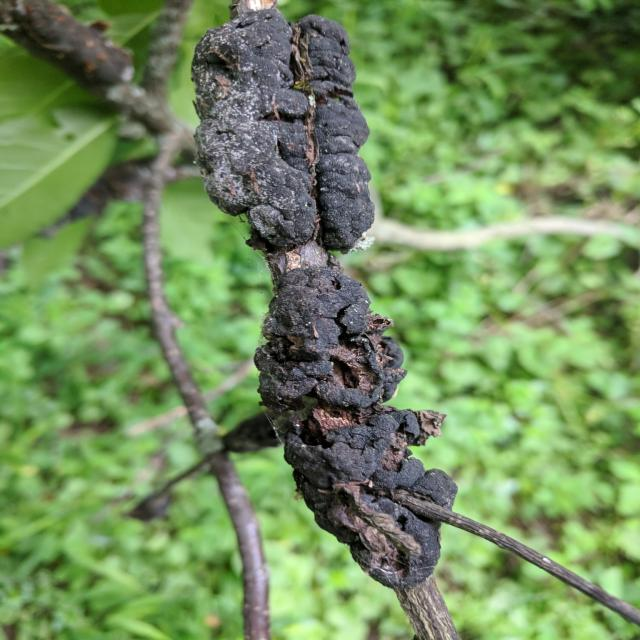Black_knot: (188, 6, 460, 592), (189, 7, 376, 253)
